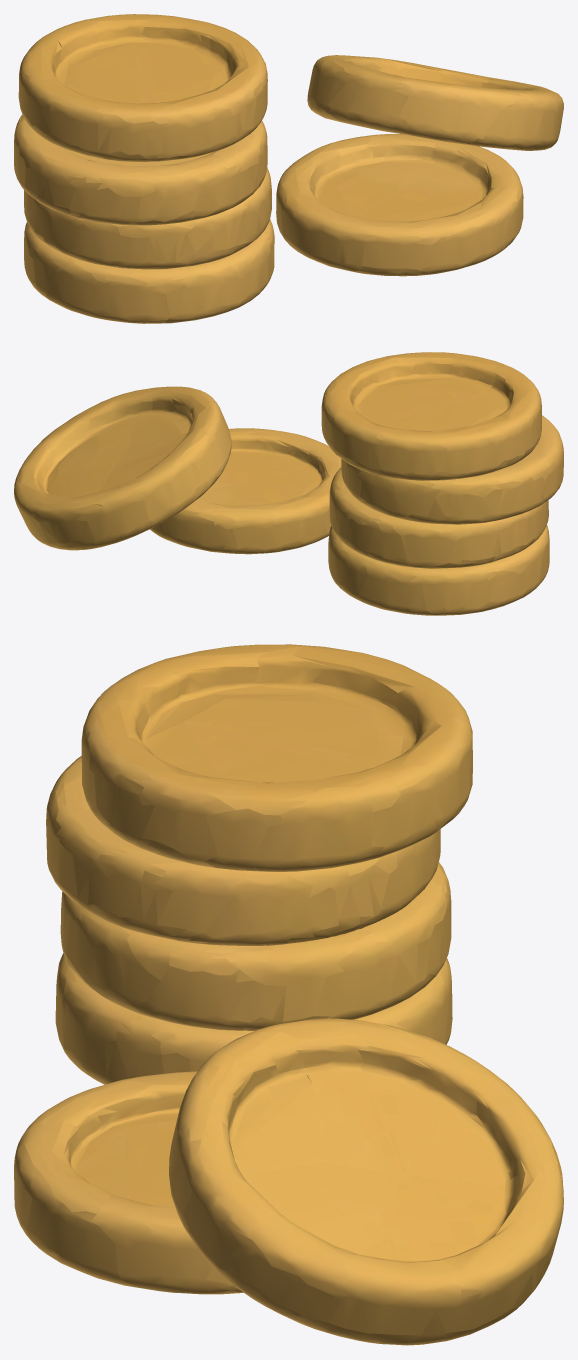
File: munten.glb
3 renders of one model, top to bottom at view 1: azimuth 30°, elevation 25°; view 2: azimuth 150°, elevation 25°; view 3: azimuth 270°, elevation 25°, orthographic. The views are drawn at different scales.
Visible parts, largest first — view 1: Mesh_0; view 2: Mesh_0; view 3: Mesh_0.
Part boxes in pixels (box(x1,y1,x2,y2)): Mesh_0: box(14, 14, 563, 323); Mesh_0: box(14, 352, 563, 615); Mesh_0: box(14, 644, 563, 1345).
Size of the model in its own units: 1.9 by 0.681 by 1.05.
Materials: 1 (1 with a texture image).
